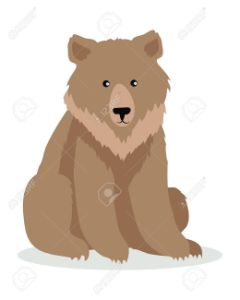bear: (19, 23, 213, 262)
